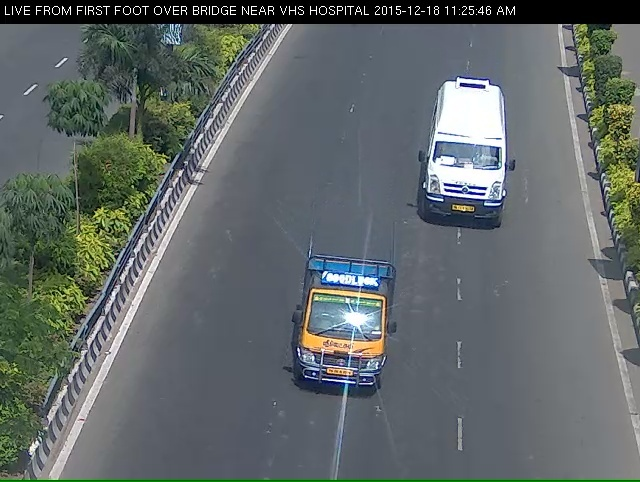Bus: (412, 81, 524, 256)
Car: (275, 260, 406, 436)
